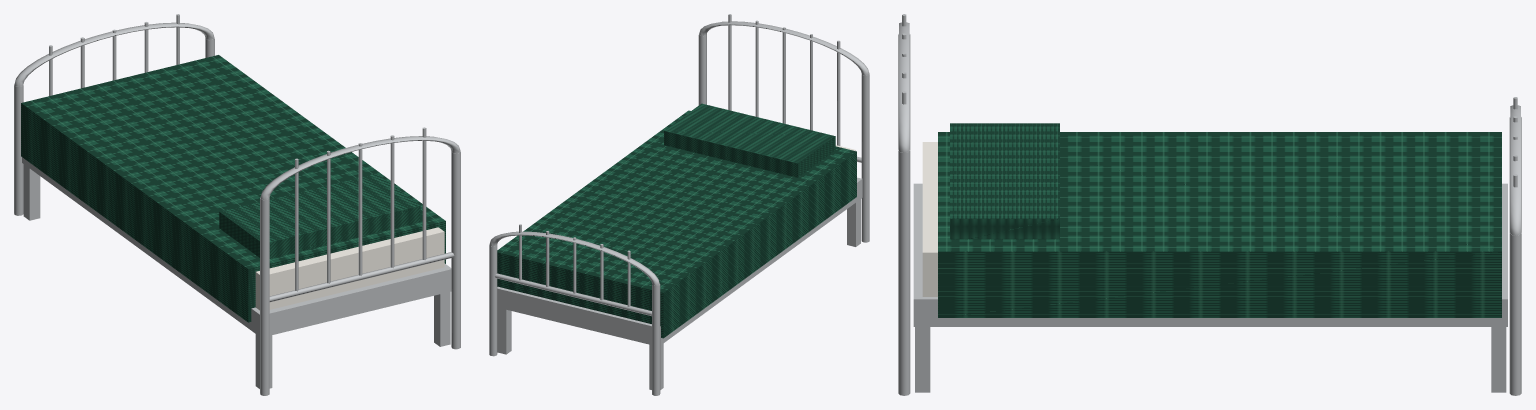
File: bed-single.glb
3 views of the same model, side by side, from view 1: azimuth 30°, elevation 25°; view 2: azimuth 150°, elevation 25°; view 3: azimuth 270°, elevation 25° (orthographic). The views are drawn at different scales.
Visible parts, largest first — view 1: bed-single; view 2: bed-single; view 3: bed-single.
Boxes of the visible parts, x1,y1,x2,y2 form: bed-single: [14, 14, 460, 395]; bed-single: [489, 14, 869, 395]; bed-single: [898, 14, 1521, 395].
Size of the model in its own units: 0.94 by 1.02 by 2.04.
3 materials, 1 textured.
